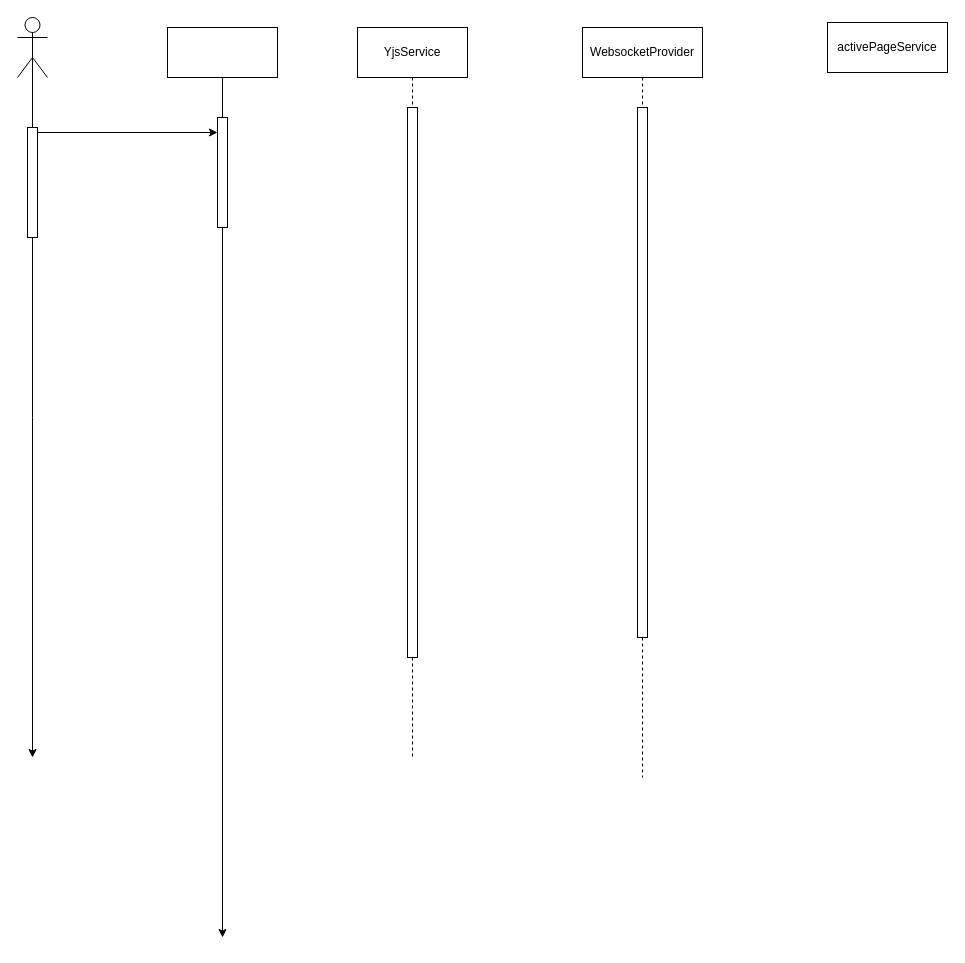
Some shapes in this 965 by 963 pixel diagram are drawn without their labels. Each missing label, with the box of its shape:
活动页面: (166, 26, 278, 78)
用户: (16, 16, 48, 78)
